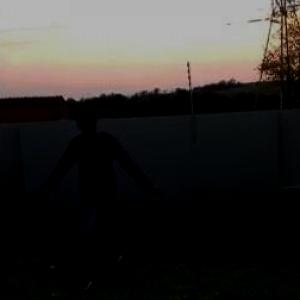land: (33, 99, 154, 275)
